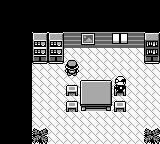leer: (82, 33, 94, 44)
main: (64, 60, 80, 76)
no-caminable: (0, 0, 159, 143), (80, 80, 112, 110), (33, 33, 64, 63), (96, 32, 144, 48), (144, 33, 159, 63), (32, 128, 48, 143), (64, 33, 81, 47), (144, 128, 159, 143)
npc: (114, 76, 126, 93)
